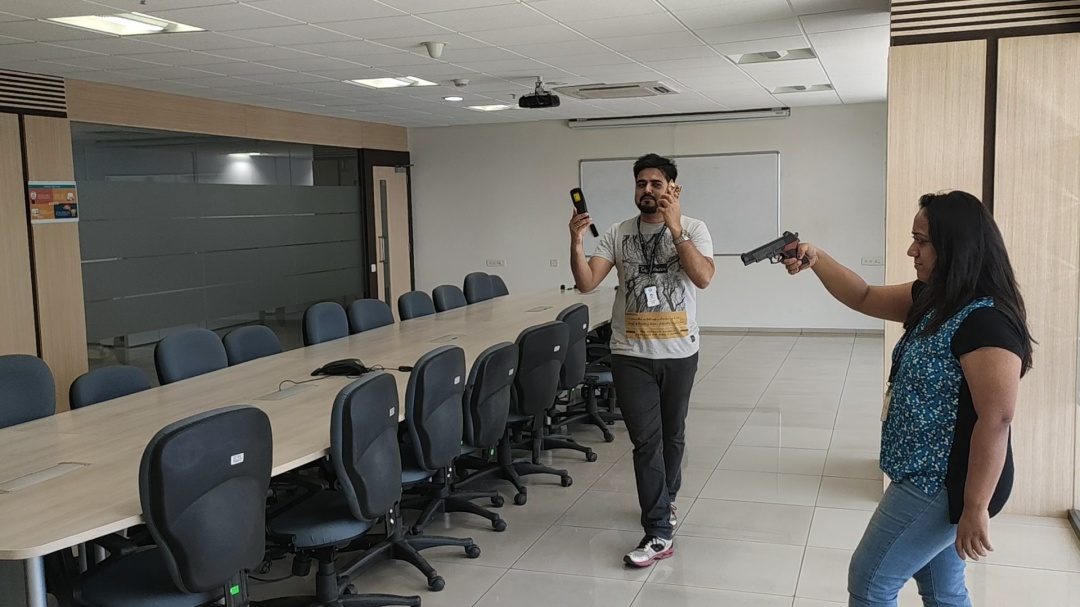gun: (740, 230, 811, 271)
